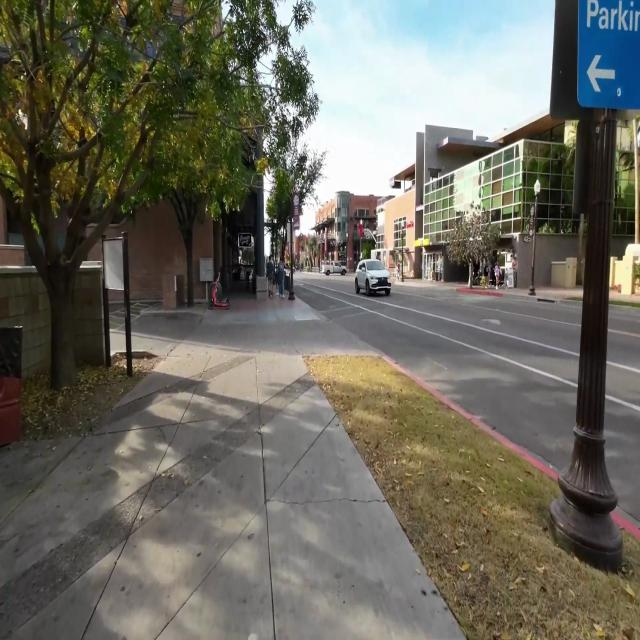road: (296, 279, 581, 471)
side walk: (0, 296, 466, 639)
